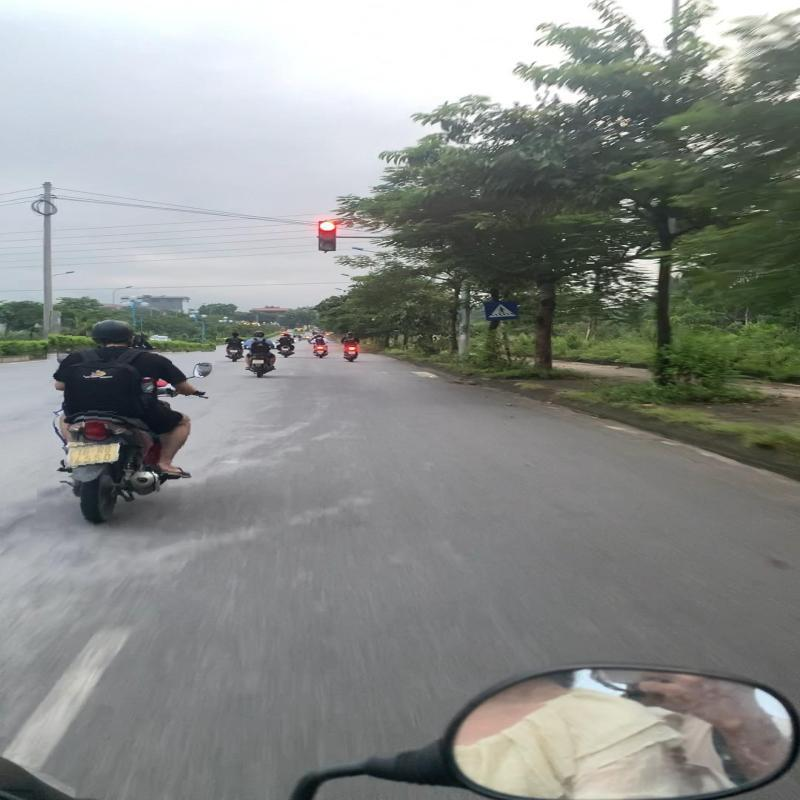helmet: (86, 316, 142, 346)
licenseplate: (62, 442, 125, 468)
motorcyclist: (39, 314, 214, 538)
